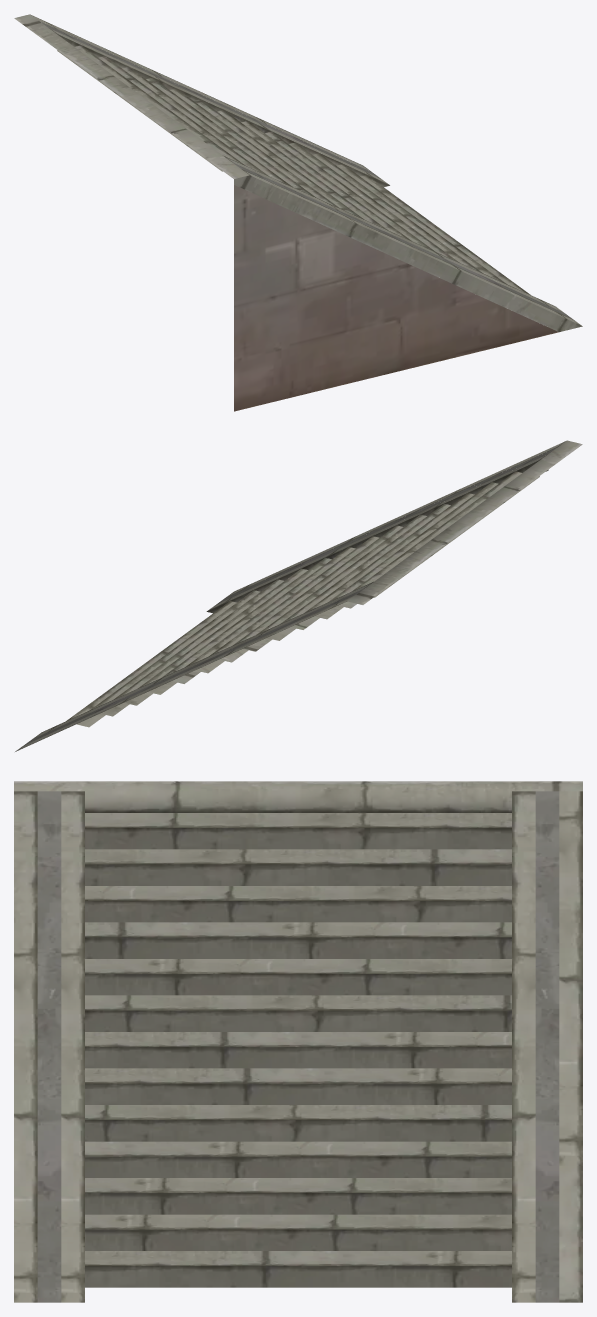
3 renders of one model, top to bottom at view 1: azimuth 30°, elevation 25°; view 2: azimuth 150°, elevation 25°; view 3: azimuth 270°, elevation 25°, orthographic. The views are drawn at different scales.
Parts seen in each view (by area): view 1: body0_model0_lod0_mesh1, body0_model0_lod0_mesh0, body0_model0_lod0_mesh2; view 2: body0_model0_lod0_mesh0, body0_model0_lod0_mesh2; view 3: body0_model0_lod0_mesh0, body0_model0_lod0_mesh2.
Boxes of the visible parts, x1,y1,x2,y2 form: body0_model0_lod0_mesh1: (234,185,558,411); body0_model0_lod0_mesh0: (14,14,582,332); body0_model0_lod0_mesh2: (40,21,572,318); body0_model0_lod0_mesh0: (15,440,582,751); body0_model0_lod0_mesh2: (24,447,556,745); body0_model0_lod0_mesh0: (14,781,582,1302); body0_model0_lod0_mesh2: (37,791,559,1302).
Size of the model in its own units: 176 by 112 by 192.
3 materials, 3 textured.
